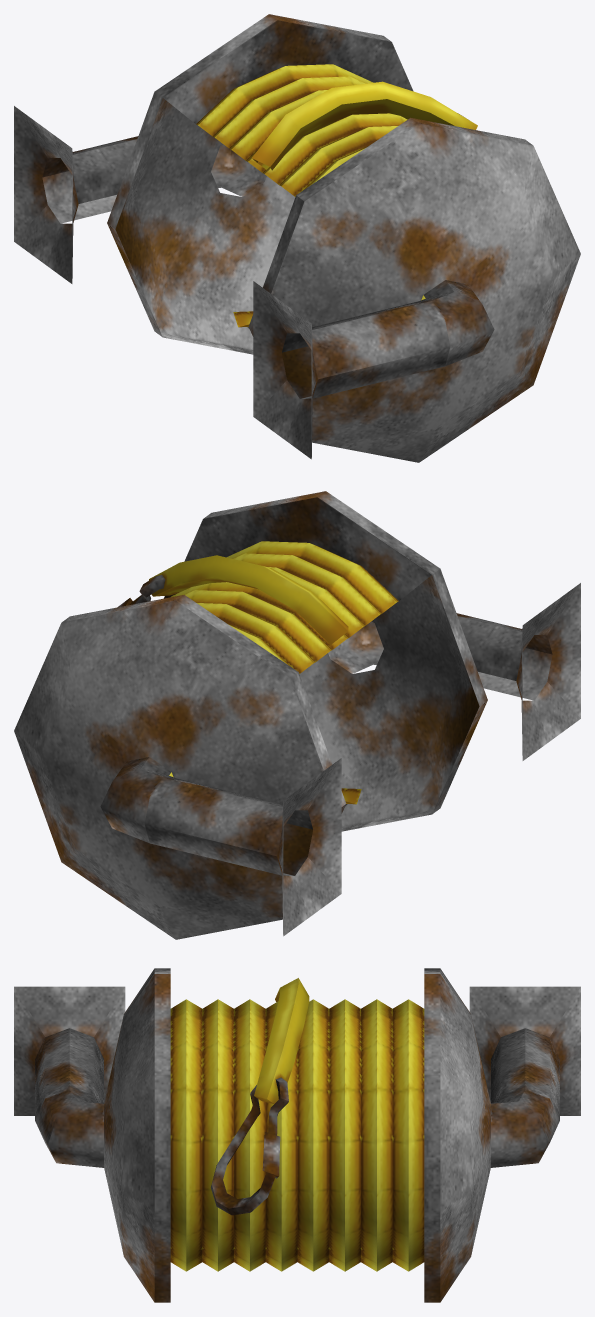
File: PROP_069_Cable.fbx
3 renders of one model, top to bottom at view 1: azimuth 30°, elevation 25°; view 2: azimuth 150°, elevation 25°; view 3: azimuth 270°, elevation 25°, orthographic. The views are drawn at different scales.
Visible parts, largest first — view 1: Cable_001; view 2: Cable_001; view 3: Cable_001.
Part boxes in pixels (box(x1,y1,x2,y2)): Cable_001: box(14, 14, 580, 462); Cable_001: box(14, 491, 580, 939); Cable_001: box(14, 968, 580, 1302).
Size of the model in its own units: 1.27 by 1.15 by 1.84.
Materials: 2 (2 with a texture image).
